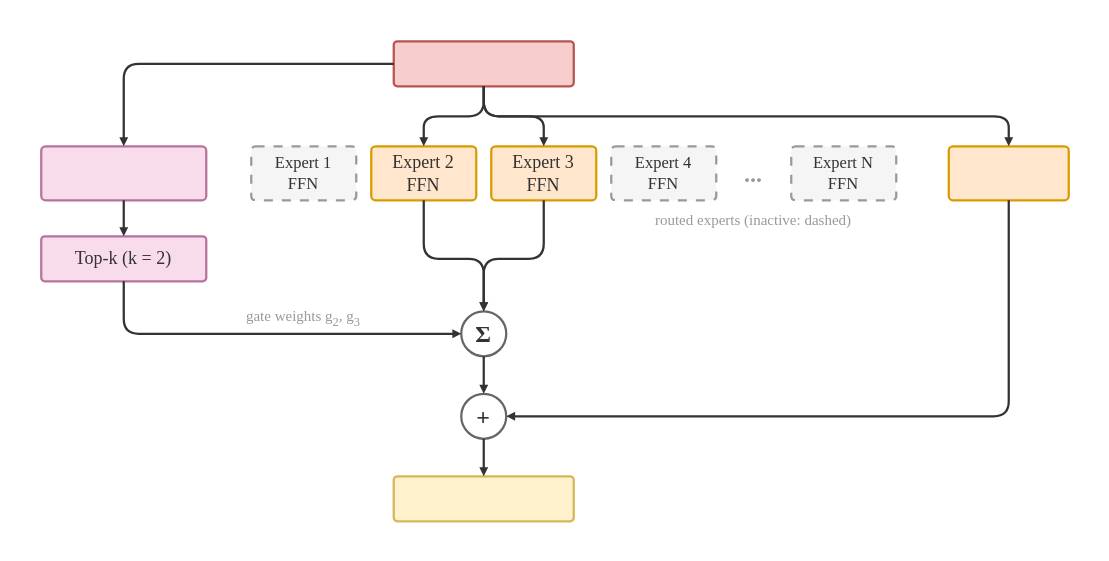
Some shapes in this 1109 by 561 pixel diagram are drawn without their labels. Here are the shapes that lost their labels. From the top down, the centre of each, then its label:
At pixel 483 63: "Token h t".
At pixel 123 172: "Router Linear + Softmax".
At pixel 1008 172: "Shared Expert".
At pixel 483 498: "Output h' t".
